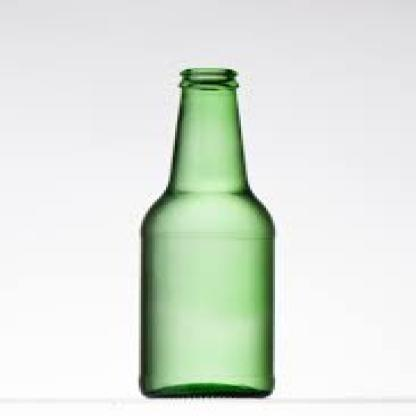trash: (141, 68, 274, 396)
